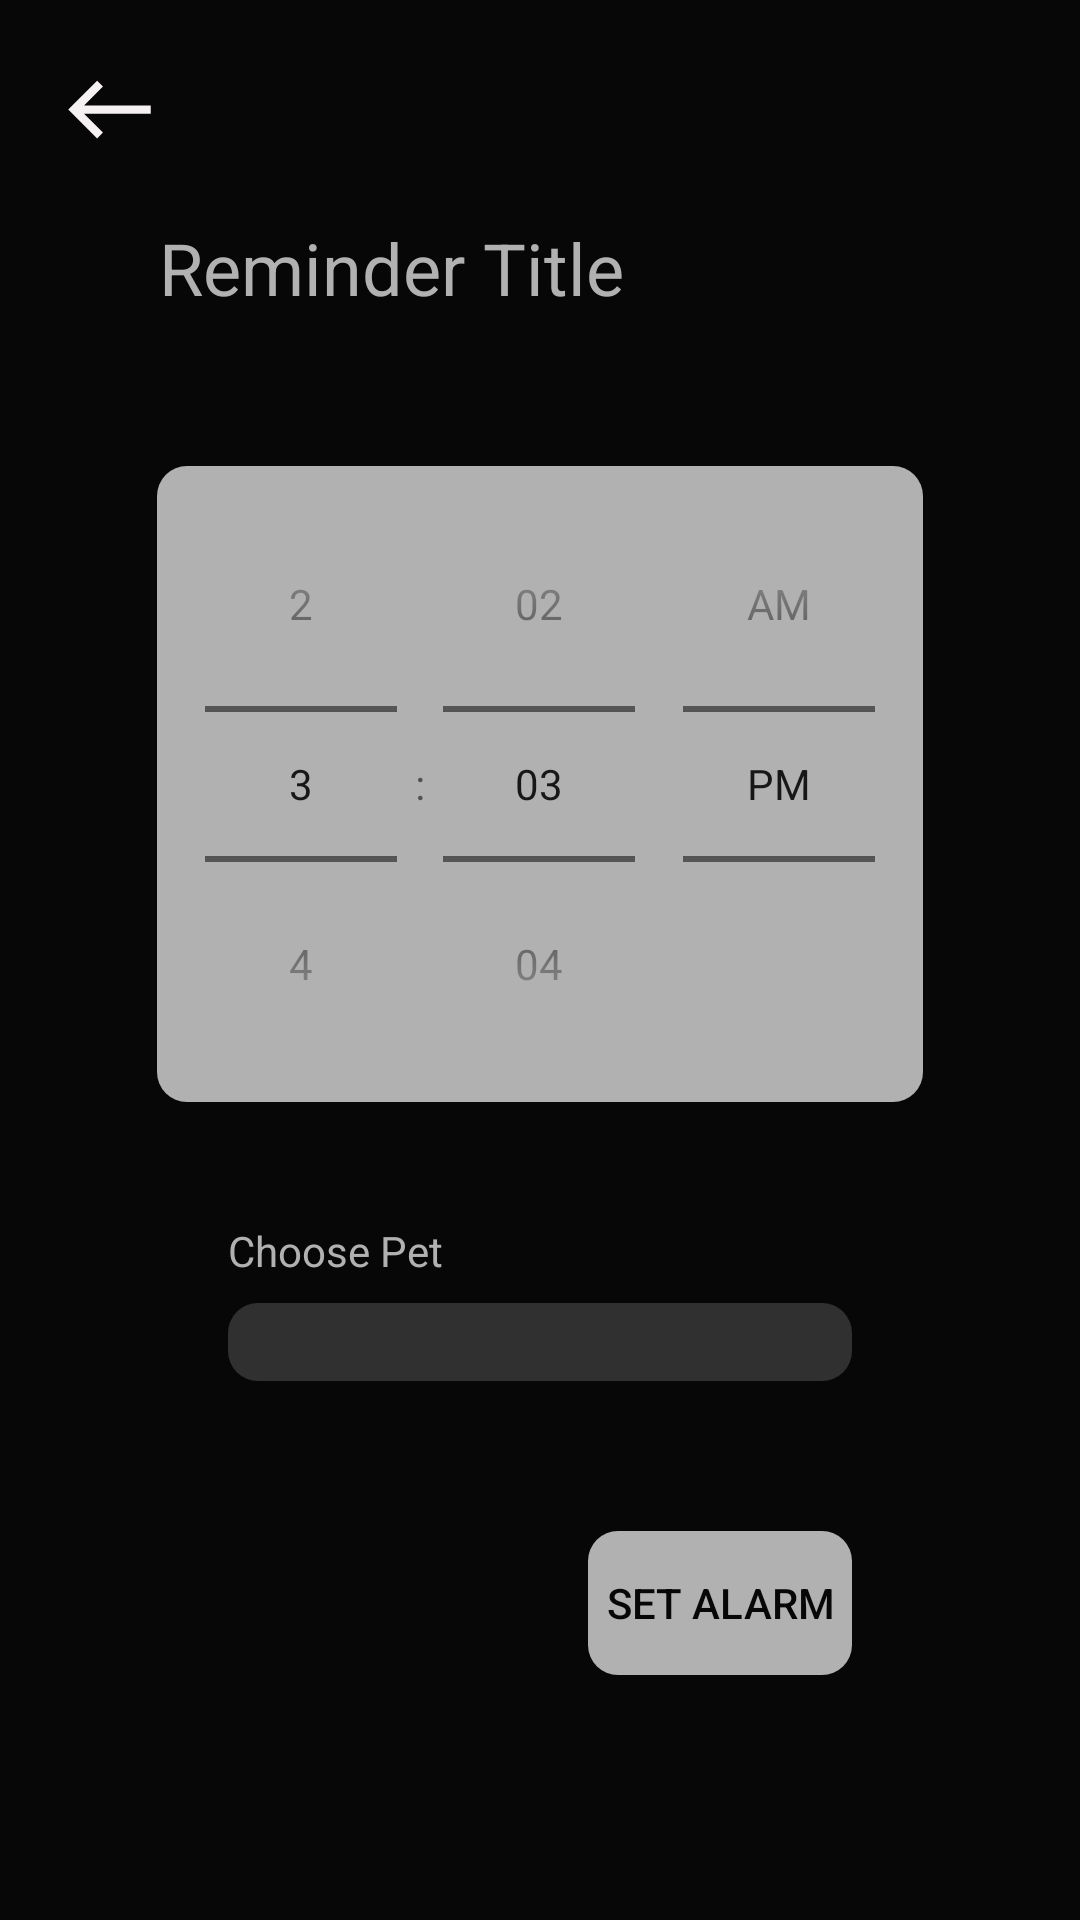

Icon bounding boxes for this 1080px x 1920px phone screenshot, format Rect(x1, y1, x2, y2):
west: Rect(68, 81, 151, 139)
